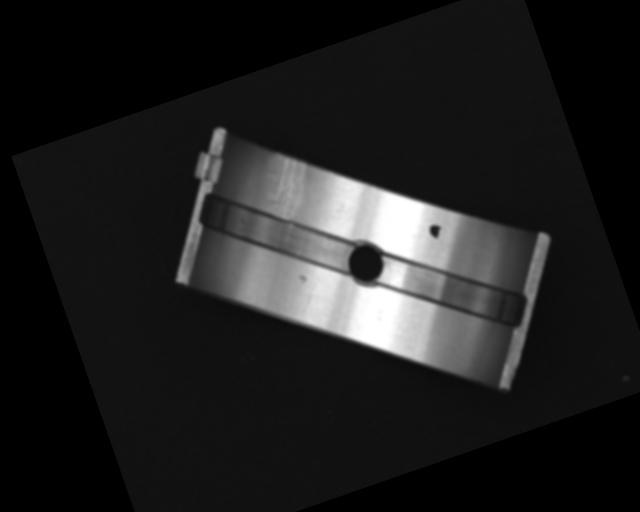blot: (426, 221, 444, 240)
bruise: (296, 273, 308, 284)
gap: (192, 154, 359, 308), (371, 218, 534, 364)
hole: (342, 238, 389, 290)
scratch: (251, 145, 323, 230)
